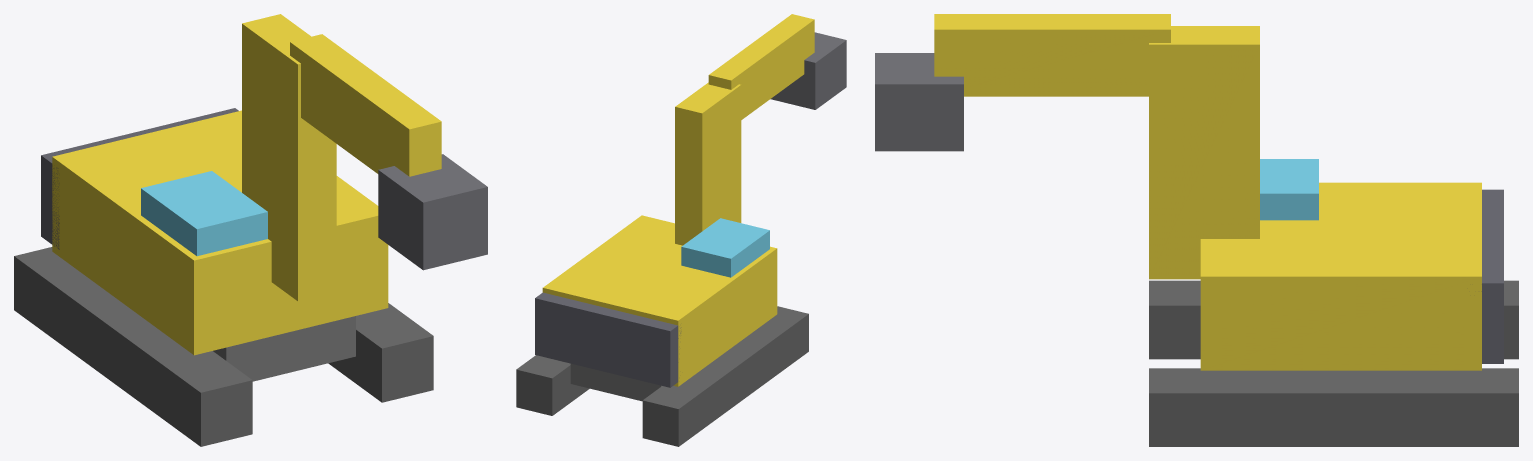
Rendered from heavy_excavator.glb.
The picture shows the model from 3 angles, left to right: view 1: azimuth 30°, elevation 25°; view 2: azimuth 150°, elevation 25°; view 3: azimuth 270°, elevation 25°; orthographic projection. The views are drawn at different scales.
Visible parts, largest first — view 1: BodyCabin, TrackLeft, BoomArm, DipperStick, ExcavatorBucket, GlassCabin, TrackRight, Undercarriage, Counterweight; view 2: BodyCabin, TrackLeft, BoomArm, Counterweight, DipperStick, GlassCabin, ExcavatorBucket, TrackRight, Undercarriage; view 3: BodyCabin, TrackRight, BoomArm, DipperStick, ExcavatorBucket, TrackLeft, Counterweight, GlassCabin.
Part boxes in pixels (x1,y1,x2,y2): BodyCabin: (52, 110, 388, 355); TrackLeft: (14, 247, 252, 446); BoomArm: (242, 14, 336, 301); DipperStick: (290, 34, 441, 176); ExcavatorBucket: (378, 154, 487, 270); GlassCabin: (141, 171, 267, 256); TrackRight: (328, 303, 433, 402); Undercarriage: (213, 316, 355, 381); Counterweight: (41, 108, 238, 249); BodyCabin: (542, 215, 777, 386); TrackLeft: (642, 306, 808, 446); BoomArm: (675, 82, 741, 245); Counterweight: (535, 292, 681, 387); DipperStick: (708, 14, 814, 119); GlassCabin: (681, 218, 769, 277); ExcavatorBucket: (770, 32, 846, 109); TrackRight: (516, 355, 589, 415); Undercarriage: (570, 363, 661, 401); BodyCabin: (1200, 182, 1481, 370); TrackRight: (1149, 368, 1518, 446); BoomArm: (1149, 26, 1259, 279); DipperStick: (934, 14, 1170, 96); ExcavatorBucket: (875, 53, 963, 151); TrackLeft: (1149, 280, 1518, 359); Counterweight: (1481, 189, 1503, 363); GlassCabin: (1260, 159, 1318, 220).
Bounding box in the file's own units: 3.6 × 5.5 × 8.7.
